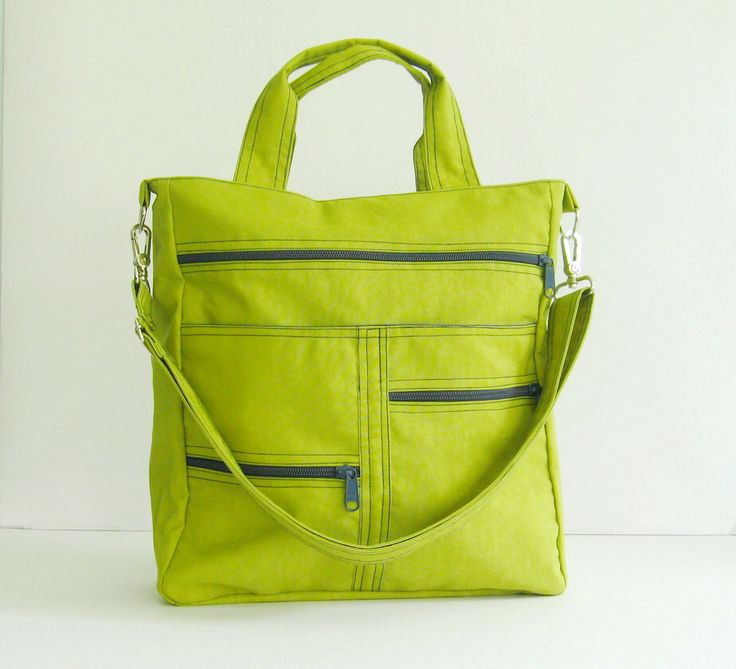nylon: (130, 37, 595, 607)
